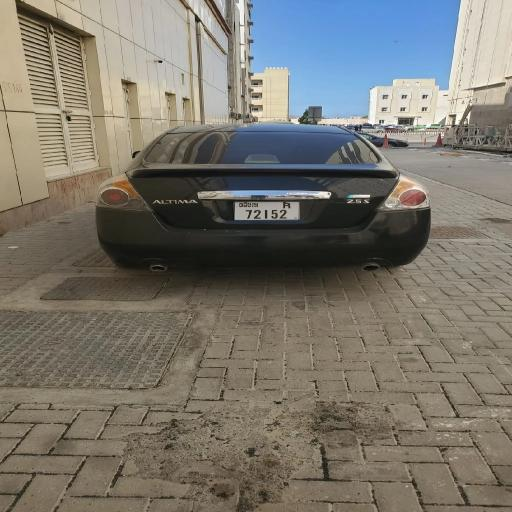license-plates: (234, 201, 300, 221)
